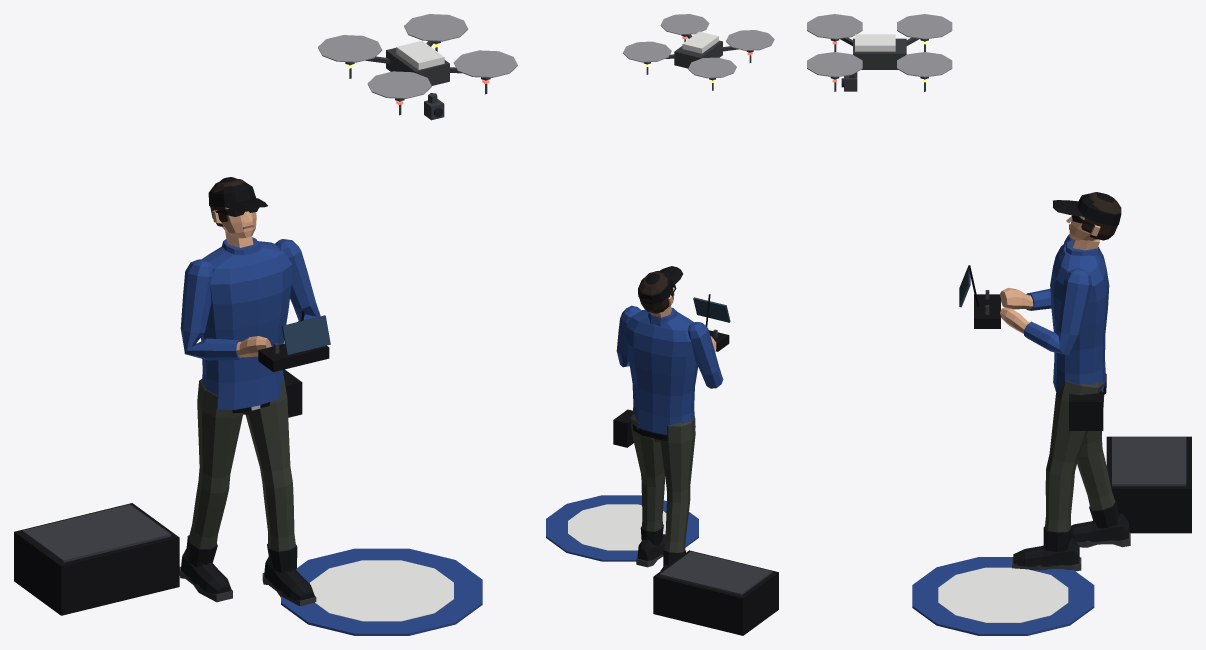
Rendered from drone_pilot.glb.
The picture shows the model from 3 angles, left to right: view 1: azimuth 30°, elevation 25°; view 2: azimuth 150°, elevation 25°; view 3: azimuth 270°, elevation 25°; orthographic projection. The views are drawn at different scales.
Parts seen in each view (by area): view 1: Track, Kit, Drone; view 2: Track, Kit, Drone; view 3: Track, Kit, Drone.
Boxes of the visible parts, x1=… form: Track: x1=179, y1=177, x2=330, y2=606; Kit: x1=14, y1=503, x2=482, y2=635; Drone: x1=318, y1=14, x2=517, y2=120; Track: x1=613, y1=266, x2=730, y2=570; Kit: x1=546, y1=495, x2=778, y2=635; Drone: x1=623, y1=14, x2=774, y2=90; Track: x1=959, y1=192, x2=1130, y2=571; Kit: x1=912, y1=436, x2=1191, y2=635; Drone: x1=807, y1=14, x2=952, y2=91.
Bounding box in the file's own units: 1.63 × 2.67 × 1.71.
